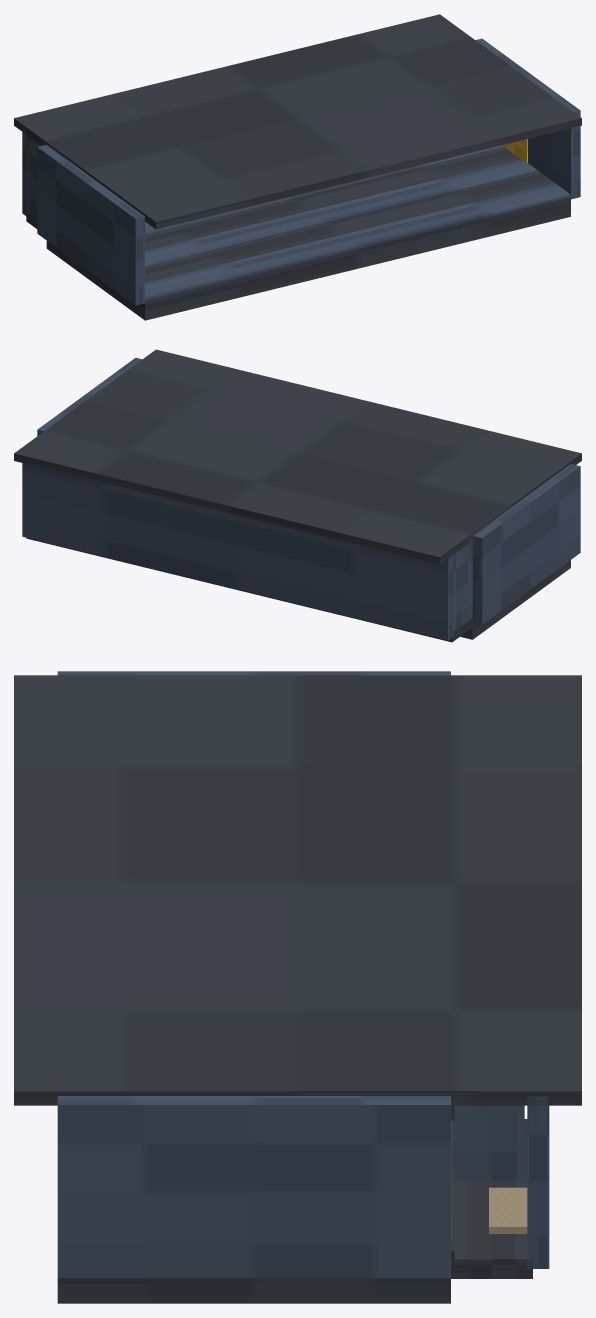
File: SM_Env_CellBlock_HQ.glb
3 renders of one model, top to bottom at view 1: azimuth 30°, elevation 25°; view 2: azimuth 150°, elevation 25°; view 3: azimuth 270°, elevation 25°, orthographic. The views are drawn at different scales.
Visible parts, largest first — view 1: SM_Env_CellBlock_HQ; view 2: SM_Env_CellBlock_HQ; view 3: SM_Env_CellBlock_HQ.
Part boxes in pixels (box(x1,y1,x2,y2)): SM_Env_CellBlock_HQ: box(14, 14, 581, 320); SM_Env_CellBlock_HQ: box(14, 349, 581, 642); SM_Env_CellBlock_HQ: box(14, 671, 581, 1303).
Size of the model in its own units: 18.8 by 4.3 by 10.4.
Materials: 1 (1 with a texture image).
